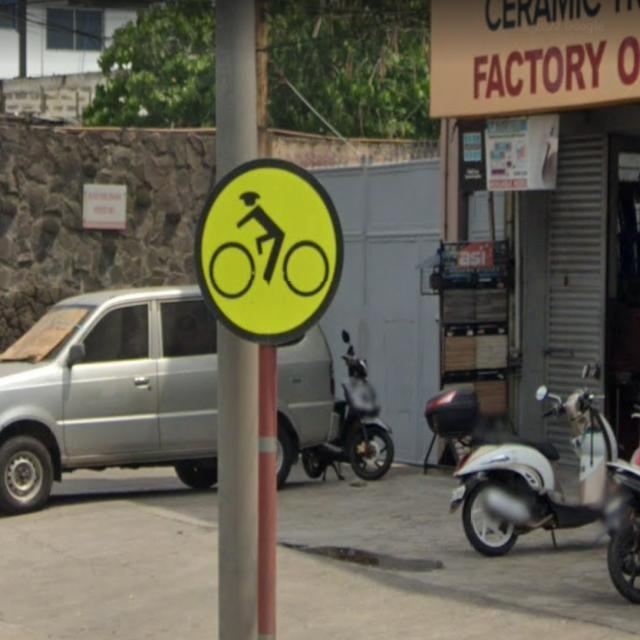bike lane: (194, 158, 342, 343)
